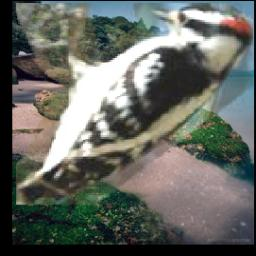Woodpecker: (15, 3, 252, 205)
